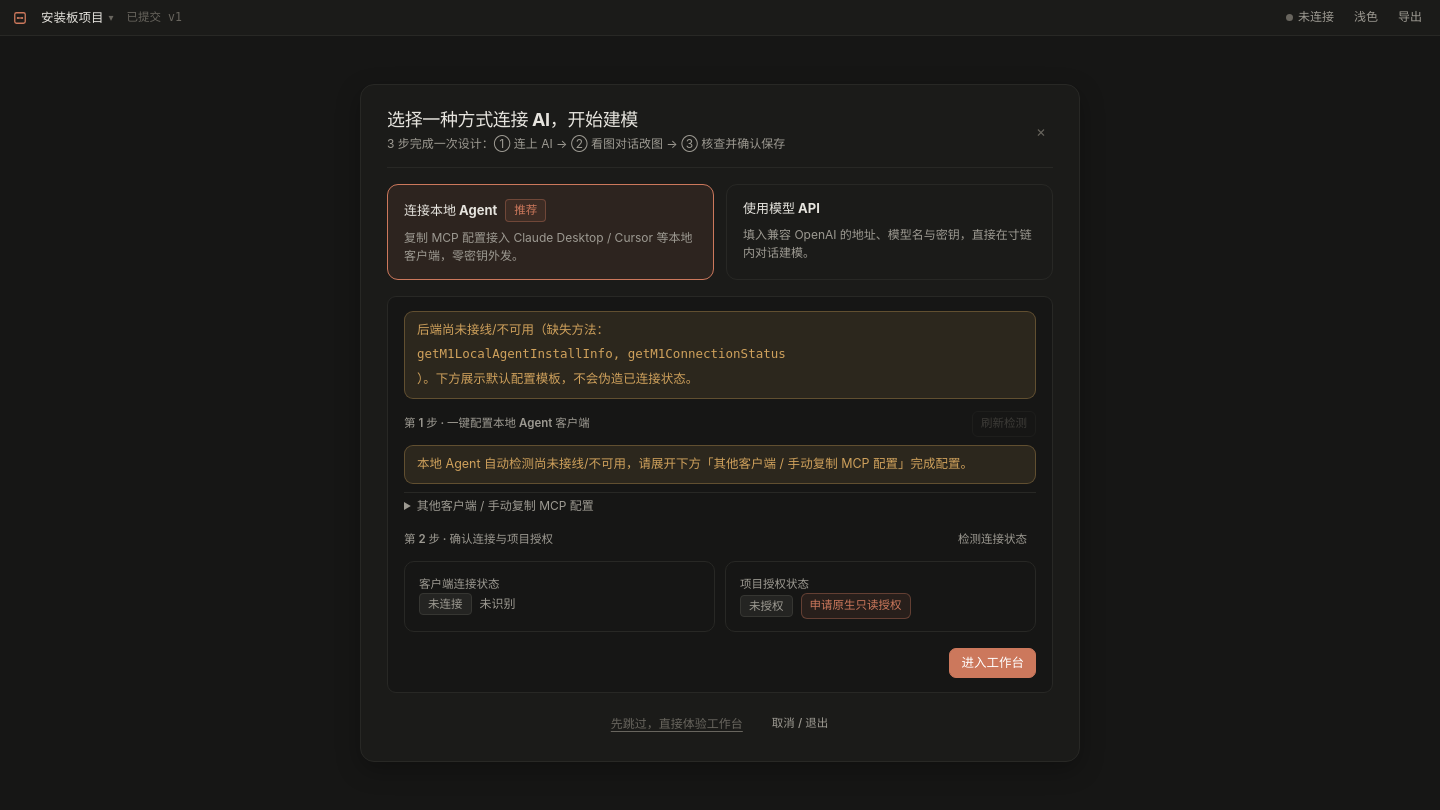
Scenario: DesktopAgentWorkspace：申请原生只读授权直接拉起回归测试 › 首次启动未绑定 .cunlian 文件时，点击「申请原生只读授权」直接拉起文件选择器并在打开后自动触发原生只读授权
The image size is (1440, 810).
Click the button "申请原生只读授权" at (856, 606), box [800,593,910,619]
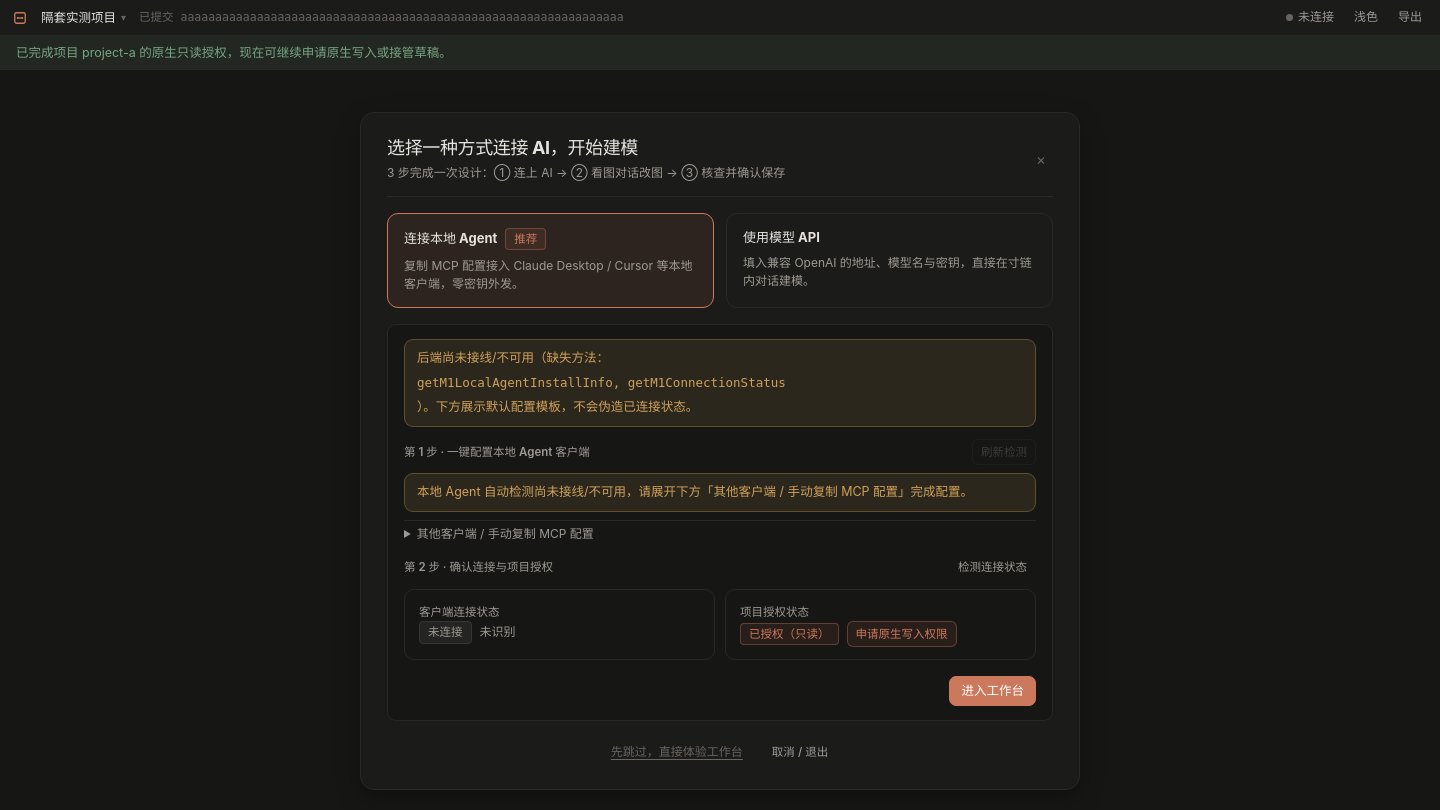
Expected: the text "已完成项目 project-a 的原生只读授权，现在可继续申请原生写入或接管草稿。" is shown, [16,45,452,60]
Expected: the text "已授权（只读）" is shown, [740,623,838,646]
